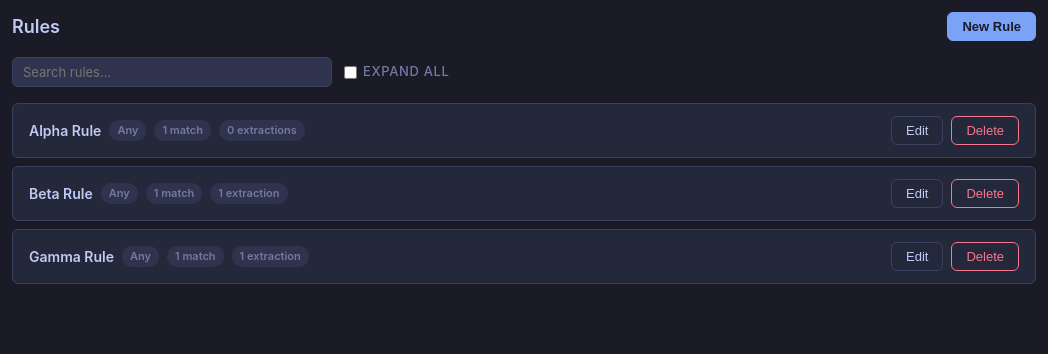
RuleList search and expand-all › filters rules by match pattern
Expected: the text "Beta Rule" is shown, [29,183,93,204]
Type "BETA_PATTERN" into the search field with placeholder "Search rules...". click: (172, 72)
box: [12,57,332,87]
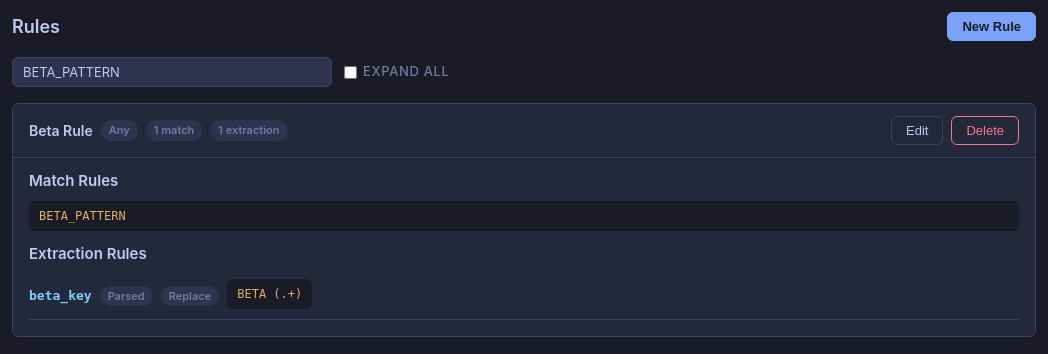
Expected: the button "Alpha Rule" is gone
Expected: the text "Beta Rule" is shown, [29,120,93,141]
Expected: the button "Gamma Rule" is gone
